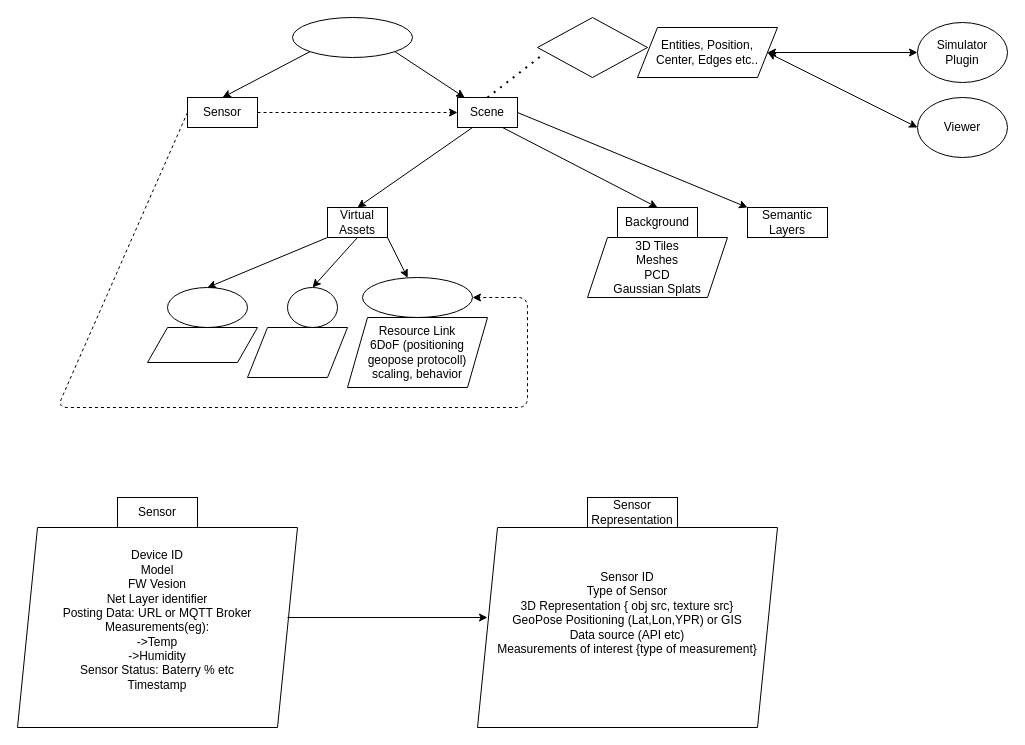
Some shapes in this 1025 by 745 pixel diagram are drawn without their labels. The shapes that lost their labels are listed below. From the top down, each one's centre as x and y in pixels, then its label:
the point at 352,37: Service Path
the point at 592,47: Scene Descriptor
the point at 207,307: Anotations
the point at 312,307: Lights
the point at 417,297: Asset Representation
the point at 202,344: Labels
the point at 297,352: Type Position Orientation ...
